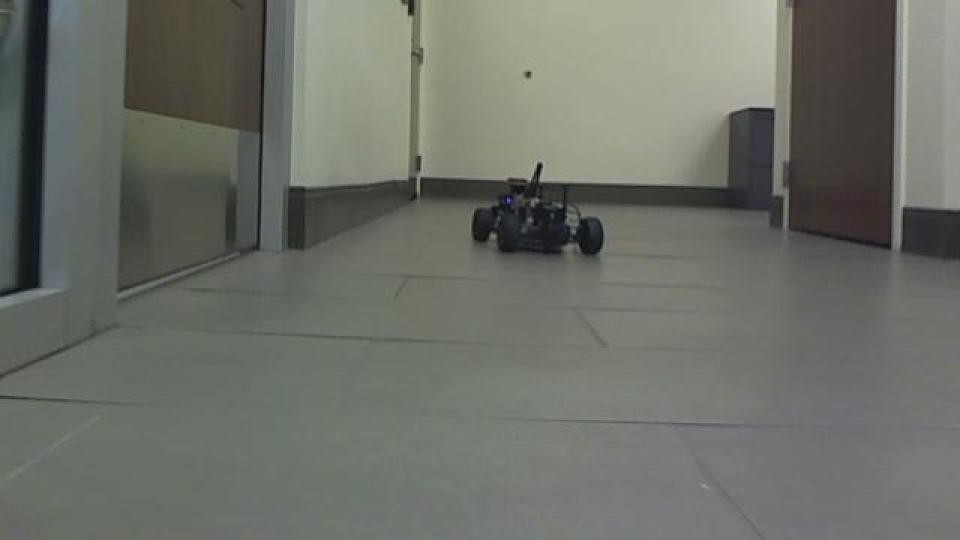car: (466, 159, 606, 259)
